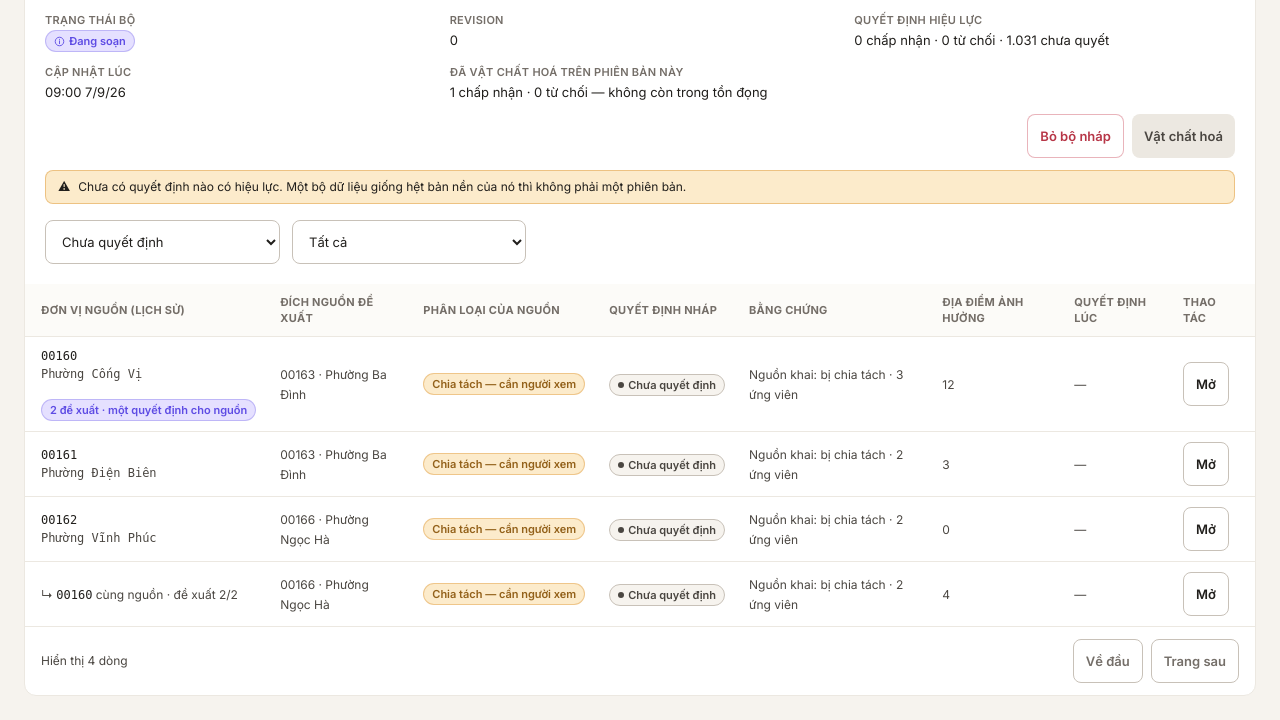
Scenario: the row detail › pre-selects nothing, and says why a candidate cannot be chosen
(page scrolled)
Click the button "Mở" in the row of "Phường Cống Vị": {"x": 1206, "y": 384} [1183,362,1229,406]
(page scrolled)
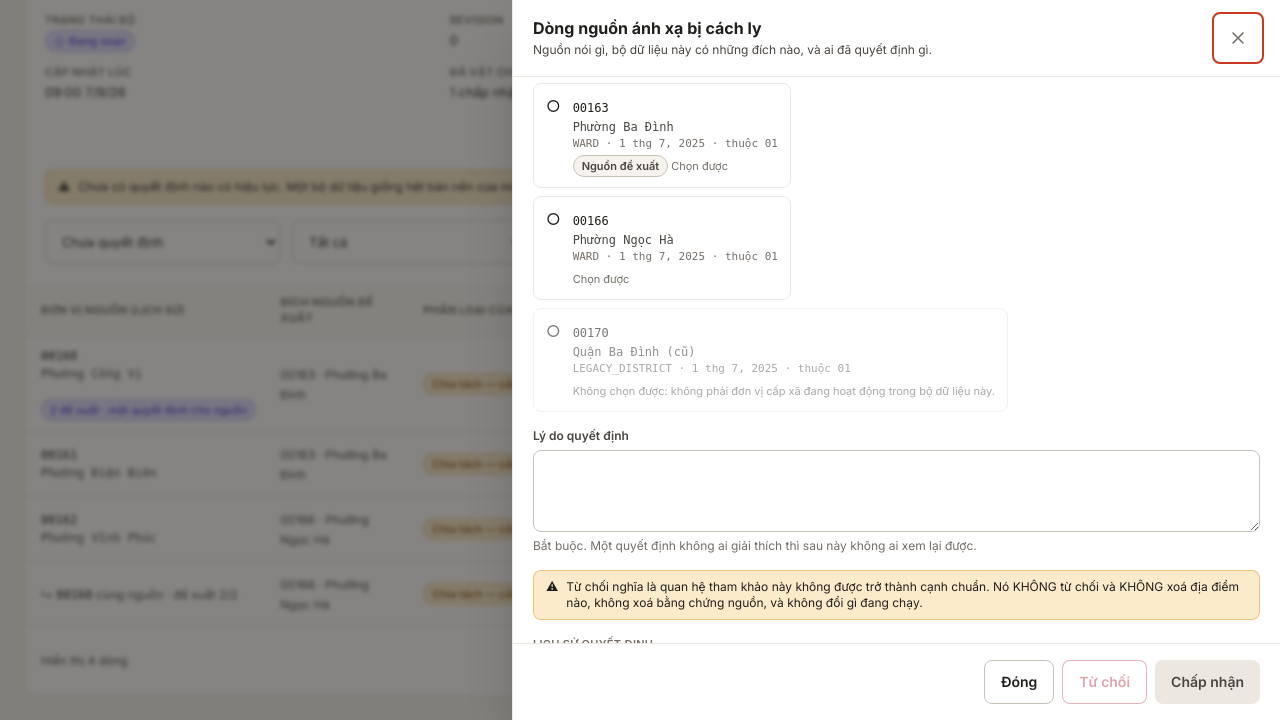
Expected: the text "Nguồn đề xuất" is shown, [573,155,668,177]
Expected: the text "Không chọn được" is shown, [573,384,995,398]
Expected: the radio button that starts with "Quận Ba Đình (cũ)" is disabled, [533,308,1008,412]
